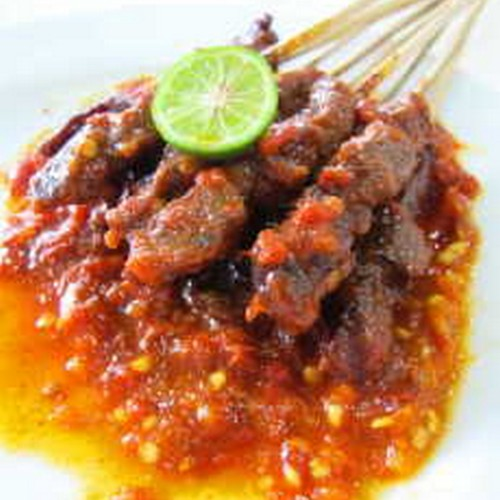sate plecing: (37, 74, 438, 372)
